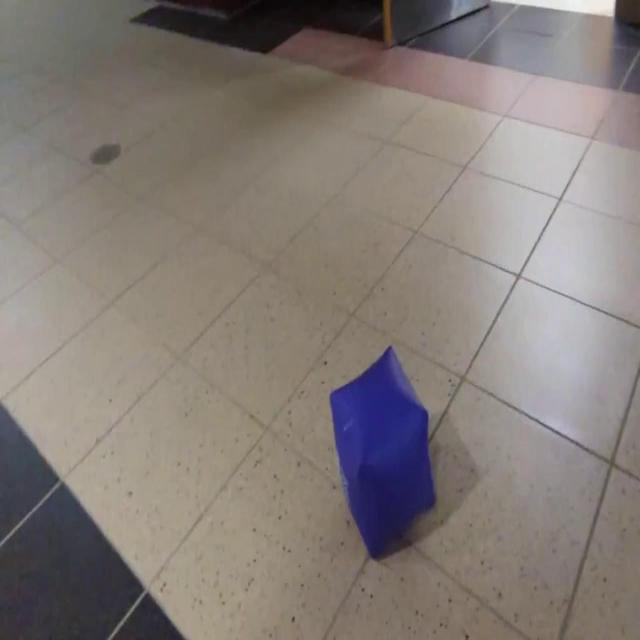frc_cube: (329, 346, 435, 564)
